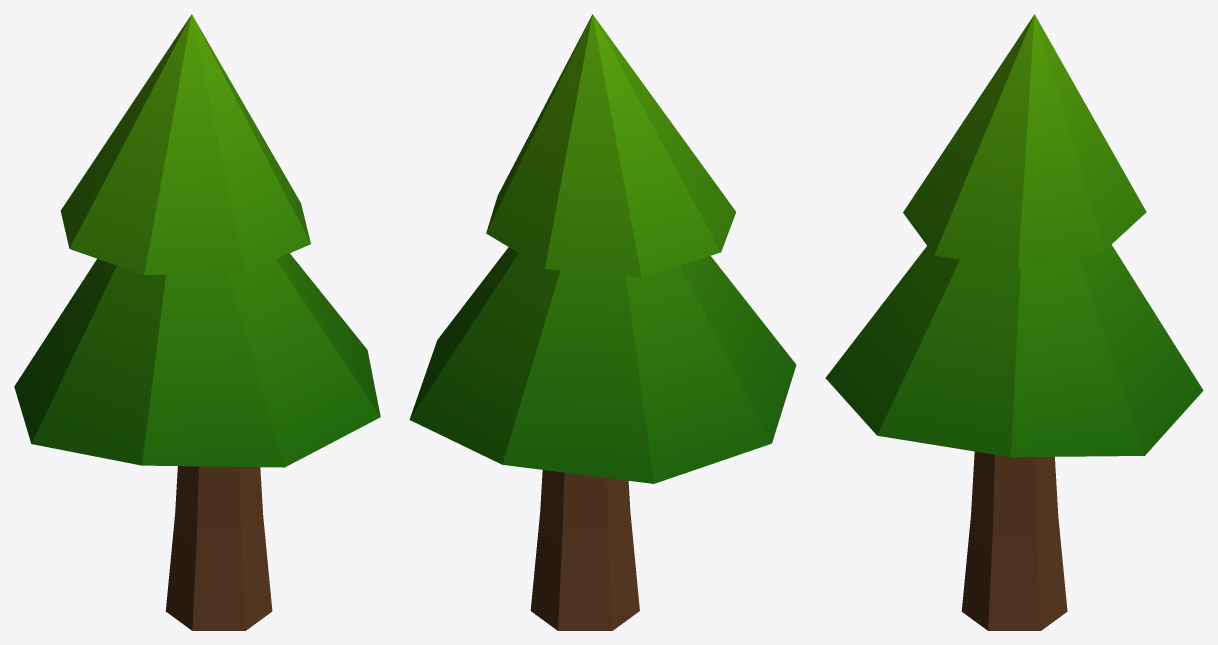
File: tree_pine_3.glb
3 renders of one model, left to right at view 1: azimuth 30°, elevation 25°; view 2: azimuth 150°, elevation 25°; view 3: azimuth 270°, elevation 25°, orthographic. The views are drawn at different scales.
Parts seen in each view (by area): view 1: tree_pine_3; view 2: tree_pine_3; view 3: tree_pine_3.
Part boxes in pixels (x1,y1,x2,y2): tree_pine_3: (14, 14, 380, 630); tree_pine_3: (409, 14, 796, 630); tree_pine_3: (825, 14, 1203, 630).
Bounding box in the file's own units: 1.18 × 2.01 × 1.17.
1 material, 1 textured.
